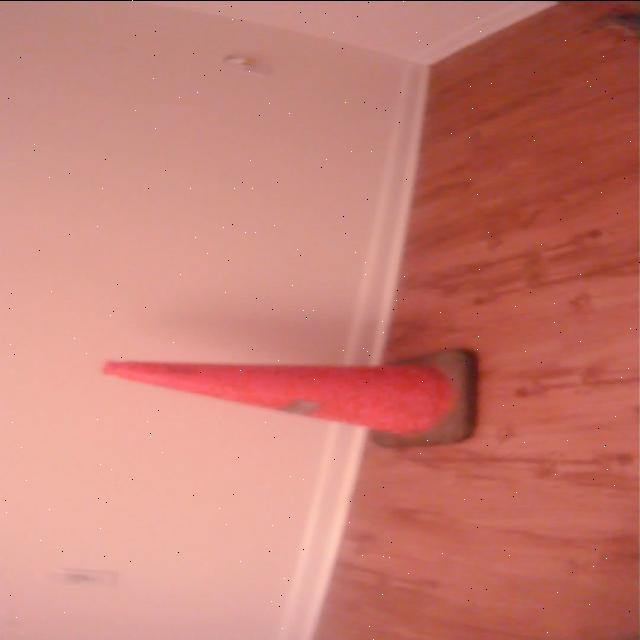traffic cone: (99, 343, 489, 453)
